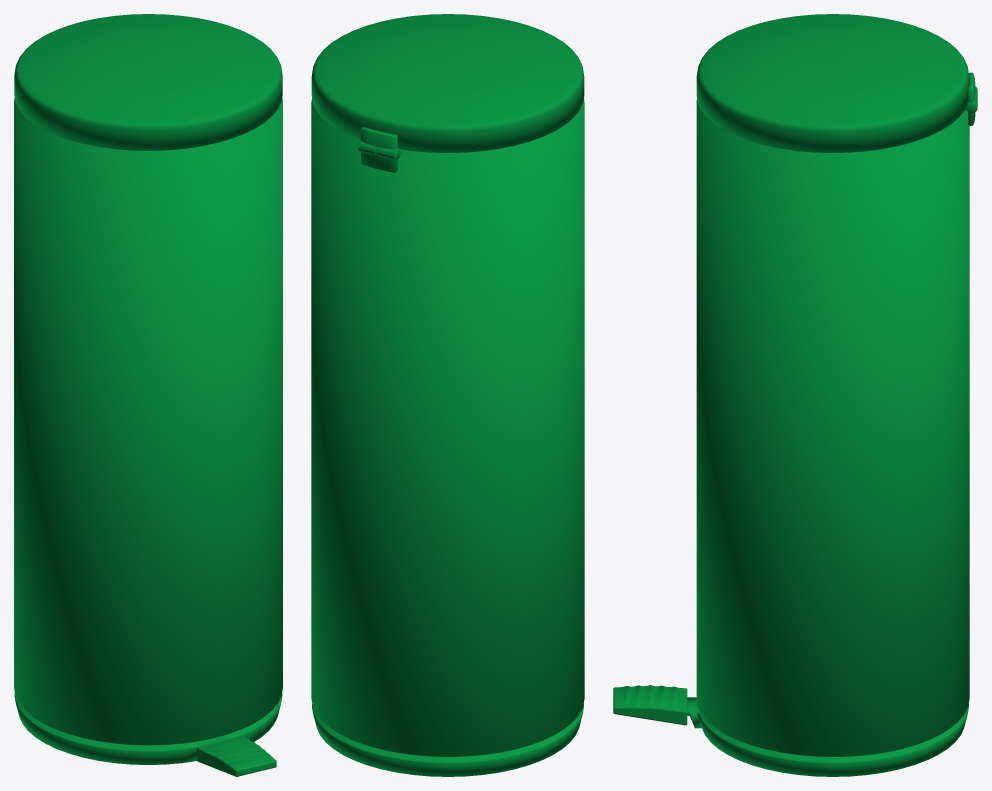
The model's file is ThrashBin.fbx.
The picture shows the model from 3 angles, left to right: view 1: azimuth 30°, elevation 25°; view 2: azimuth 150°, elevation 25°; view 3: azimuth 270°, elevation 25°; orthographic projection.
Parts seen in each view (by area): view 1: Bin; view 2: Bin; view 3: Bin.
Part boxes in pixels (left/top/right/bottom): Bin: left=14, top=14, right=282, bottom=776; Bin: left=311, top=14, right=584, bottom=776; Bin: left=613, top=14, right=977, bottom=776.
Bounding box in the file's own units: 56.05 × 150 × 74.82.
